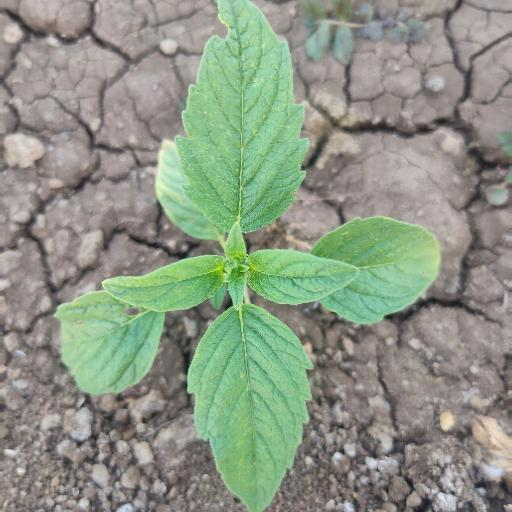crop: (48, 4, 443, 512)
